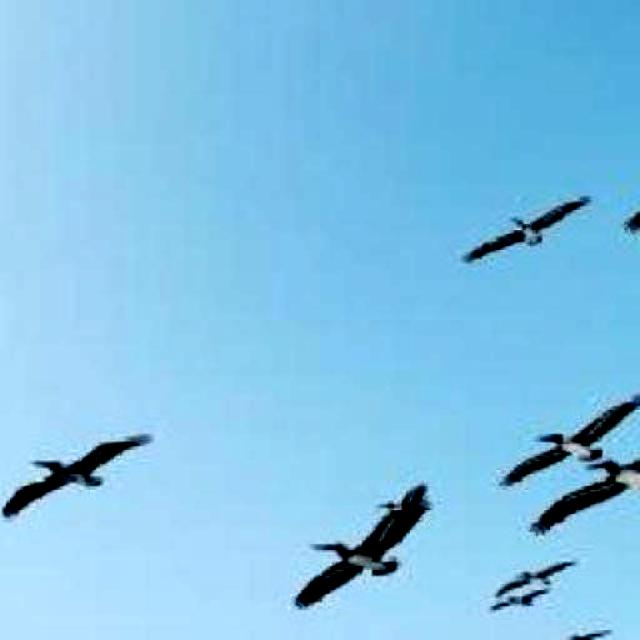airplane: (294, 495, 432, 609), (499, 392, 640, 489), (0, 432, 154, 519), (529, 418, 640, 538), (462, 195, 594, 262), (492, 559, 582, 599), (374, 481, 430, 531), (489, 588, 555, 614), (550, 629, 616, 640)
